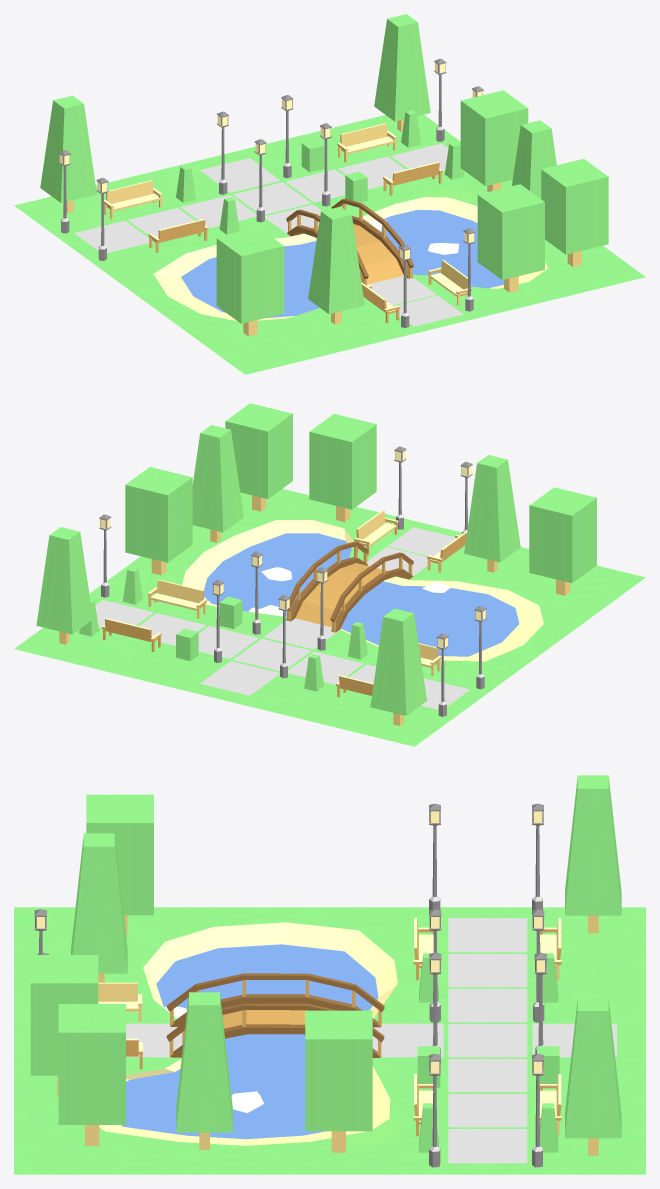
Rendered from park.009.glb.
3 views of the same model, one above another, from view 1: azimuth 30°, elevation 25°; view 2: azimuth 150°, elevation 25°; view 3: azimuth 270°, elevation 25° (orthographic). The views are drawn at different scales.
Visible parts, largest first — view 1: park.009(Clone); view 2: park.009(Clone); view 3: park.009(Clone).
Part boxes in pixels (box(x1,y1,x2,y2)): park.009(Clone): box(14, 14, 645, 374); park.009(Clone): box(14, 403, 645, 746); park.009(Clone): box(14, 775, 645, 1174).
Bounding box in the file's own units: 16 × 5.51 × 16.
1 material, 1 textured.
